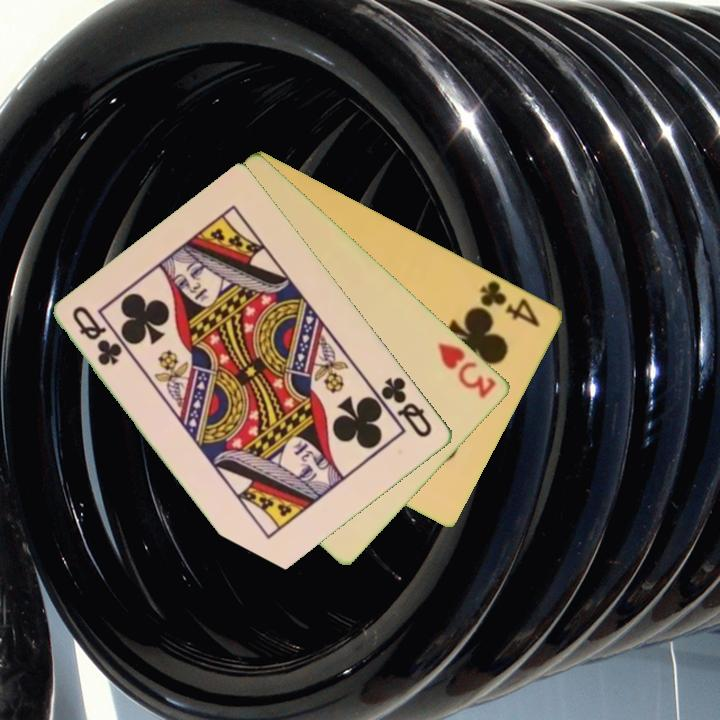3h: (434, 339, 500, 402)
4c: (476, 276, 544, 330)
Qc: (378, 373, 436, 441), (69, 302, 126, 369)
